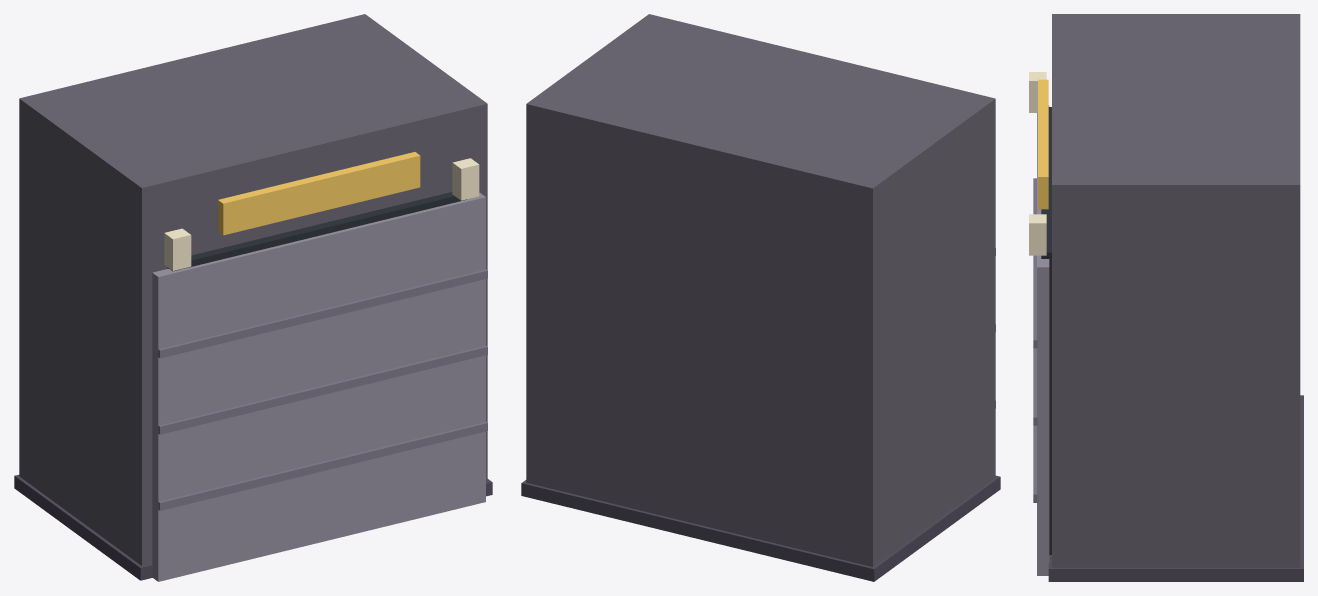
Rendered from garaje.gltf.
3 views of the same model, side by side, from view 1: azimuth 30°, elevation 25°; view 2: azimuth 150°, elevation 25°; view 3: azimuth 270°, elevation 25° (orthographic).
Parts seen in each view (by area): view 1: cuerpo, puerta_basculante, rotulo, nervio_3, nervio_2, nervio_1, hueco, zocalo, farol_der, farol_izq; view 2: cuerpo, zocalo; view 3: cuerpo, zocalo, puerta_basculante, hueco, rotulo, farol_der, nervio_3, farol_izq.
Part boxes in pixels (x1,y1,x2,y2): cuerpo: (19, 14, 487, 565); puerta_basculante: (152, 192, 485, 581); rotulo: (218, 152, 420, 235); nervio_3: (157, 269, 487, 358); nervio_2: (158, 345, 487, 434); nervio_1: (158, 422, 487, 510); hueco: (167, 192, 466, 271); zocalo: (14, 474, 492, 580); farol_der: (452, 158, 479, 200); farol_izq: (164, 228, 191, 270); cuerpo: (526, 14, 995, 566); zocalo: (521, 475, 1000, 581); cuerpo: (1052, 14, 1300, 567); zocalo: (1048, 395, 1303, 581); puerta_basculante: (1037, 105, 1049, 575); hueco: (1041, 107, 1051, 554); rotulo: (1038, 79, 1048, 209); farol_der: (1029, 214, 1046, 255); nervio_3: (1033, 178, 1038, 348); farol_izq: (1029, 72, 1046, 112).
Size of the model in its own units: 2.32 by 2.46 by 1.55.
